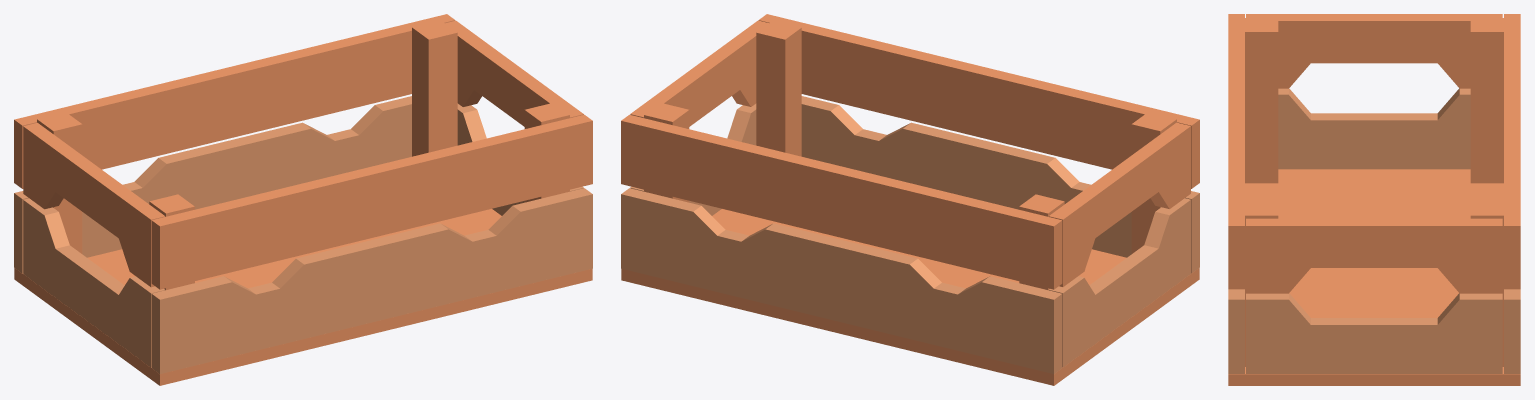
3 renders of one model, left to right at view 1: azimuth 30°, elevation 25°; view 2: azimuth 150°, elevation 25°; view 3: azimuth 270°, elevation 25°, orthographic.
Parts seen in each view (by area): view 1: Box; view 2: Box; view 3: Box.
Part boxes in pixels (box(x1,y1,x2,y2)): Box: box(14, 14, 592, 385); Box: box(621, 14, 1199, 385); Box: box(1228, 14, 1520, 385).
Bounding box in the file's own units: 0.6 × 0.3501 × 0.2156.
